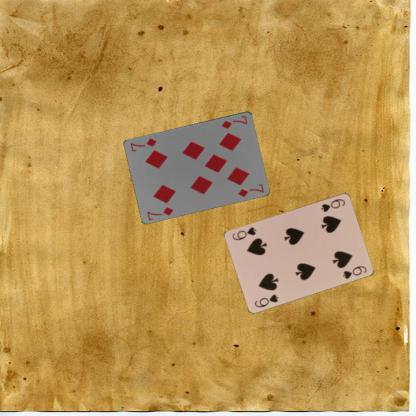6s: (252, 291, 280, 309), (318, 196, 347, 213)
7d: (219, 113, 248, 130), (145, 204, 174, 221)
